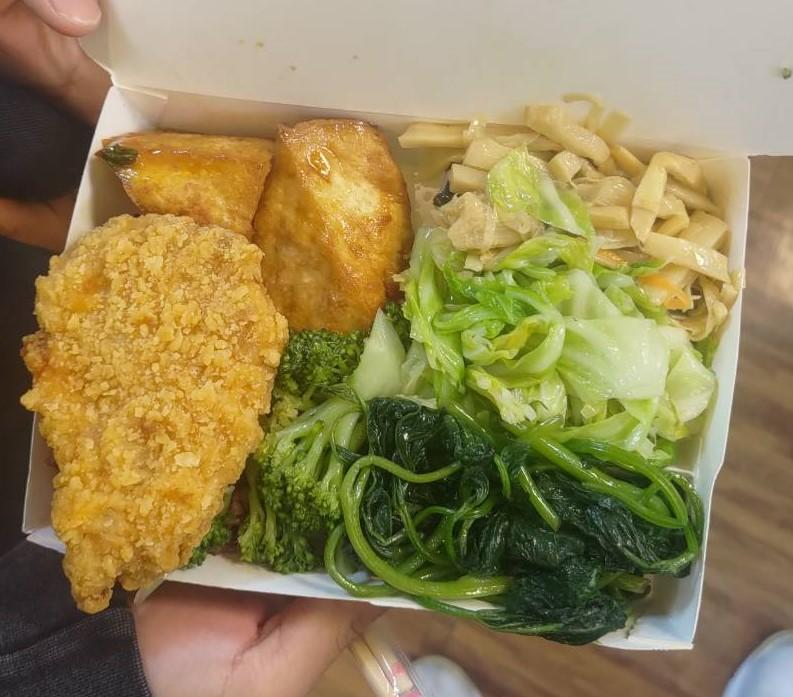big grilled chicken leg: (7, 70, 761, 659)
braised fish fillet: (331, 390, 695, 652), (399, 231, 705, 460), (98, 110, 402, 335), (431, 114, 727, 302), (239, 312, 414, 586)
braised pork: (19, 210, 290, 611)
